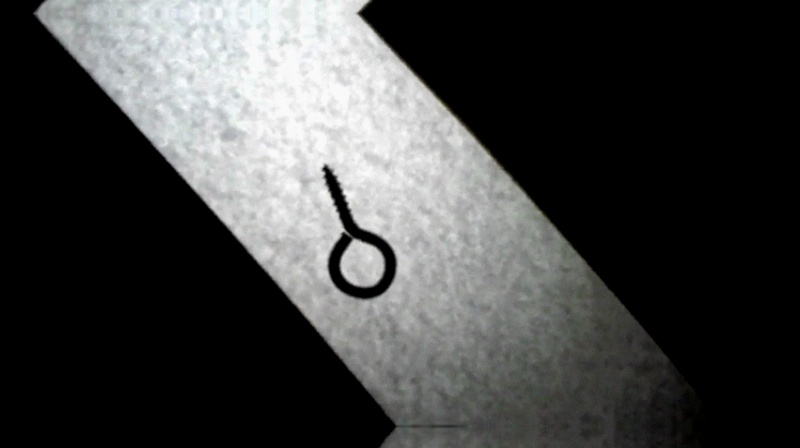O001: (318, 160, 401, 301)
